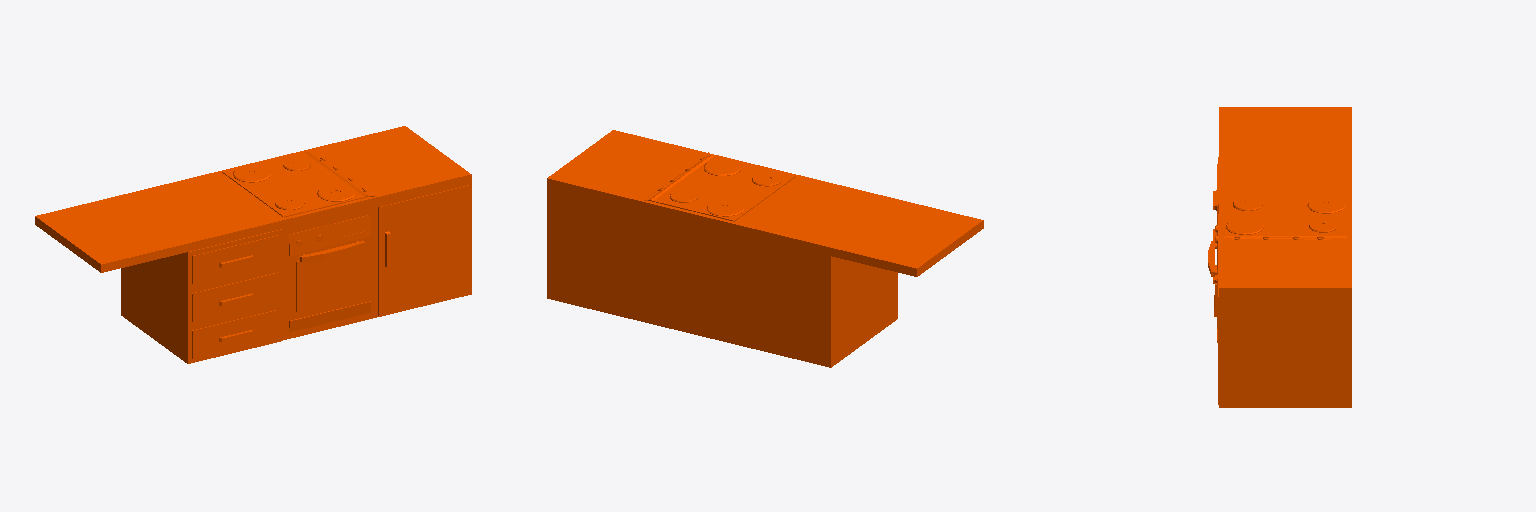
3 views of the same model, side by side, from view 1: azimuth 30°, elevation 25°; view 2: azimuth 150°, elevation 25°; view 3: azimuth 270°, elevation 25° (orthographic).
Visible parts, largest first — view 1: Box001; view 2: Box001; view 3: Box001.
Part boxes in pixels (left/top/right/bottom): Box001: left=35, top=126, right=471, bottom=363; Box001: left=547, top=130, right=983, bottom=367; Box001: left=1208, top=107, right=1351, bottom=407.
Size of the model in its own units: 87.27 by 27.69 by 29.34.
Materials: 1 (1 with a texture image).